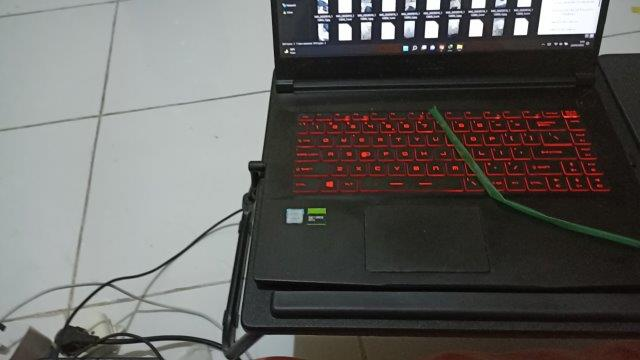sedotan: (429, 108, 640, 245)
